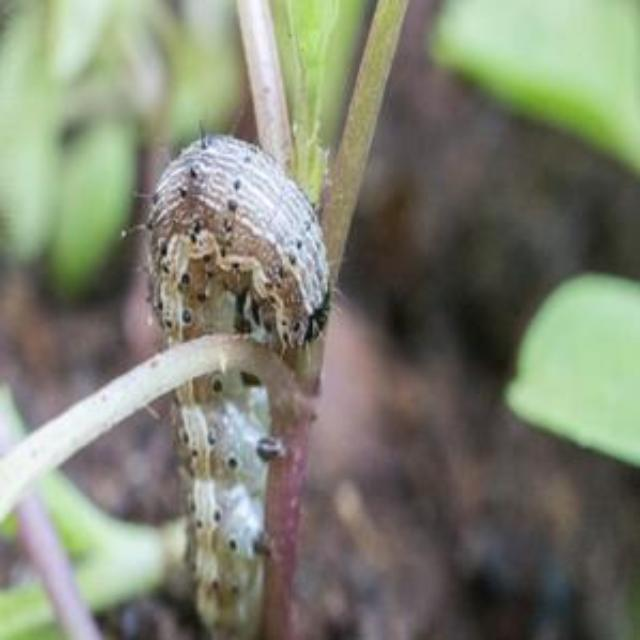Cotton bollworm: (101, 120, 362, 640)
